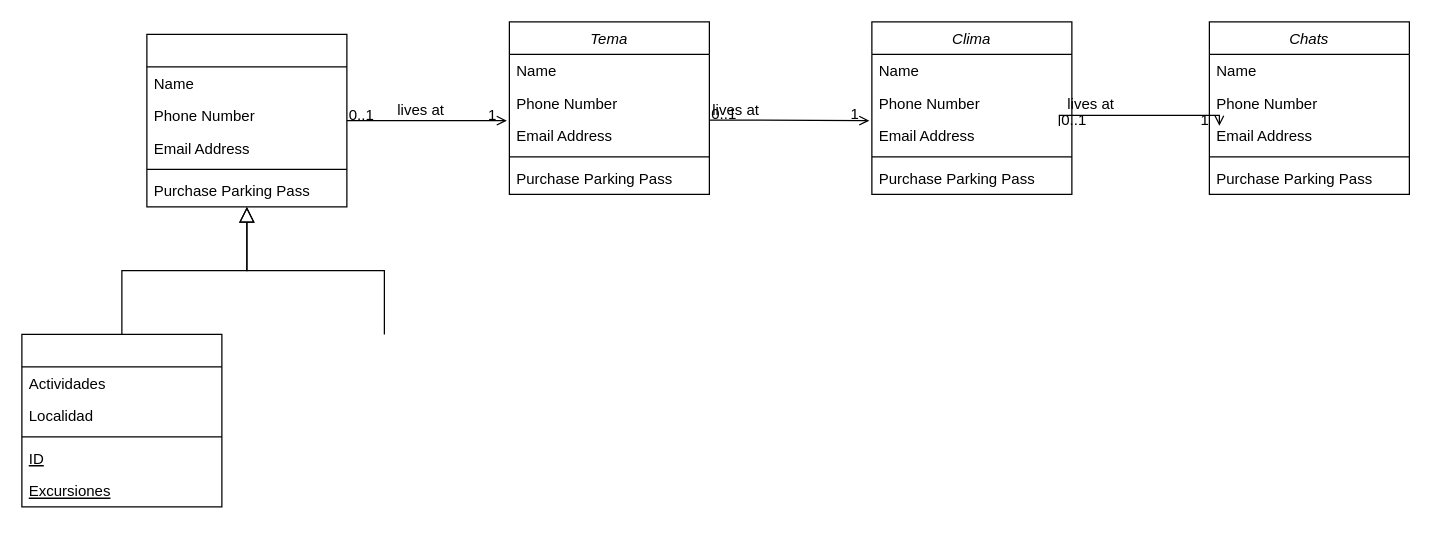
Some shapes in this 1431 by 533 pixel diagram are drawn without their labels. Each missing label, with the box of its shape:
Atracciones: (21, 333, 222, 507)
Usuario: (146, 33, 347, 207)
